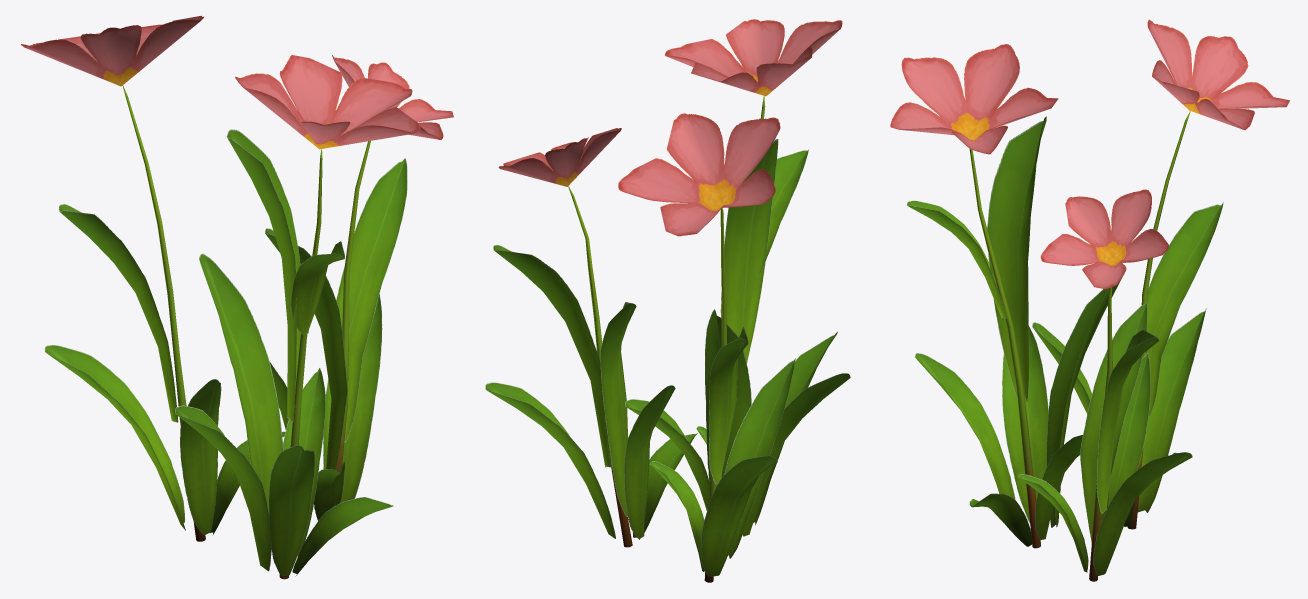
Rendered from flower_3_group.glb.
3 renders of one model, left to right at view 1: azimuth 30°, elevation 25°; view 2: azimuth 150°, elevation 25°; view 3: azimuth 270°, elevation 25°, orthographic. The views are drawn at different scales.
Size of the model in its own units: 1.49 by 2.05 by 1.59.
2 materials, 2 textured.
